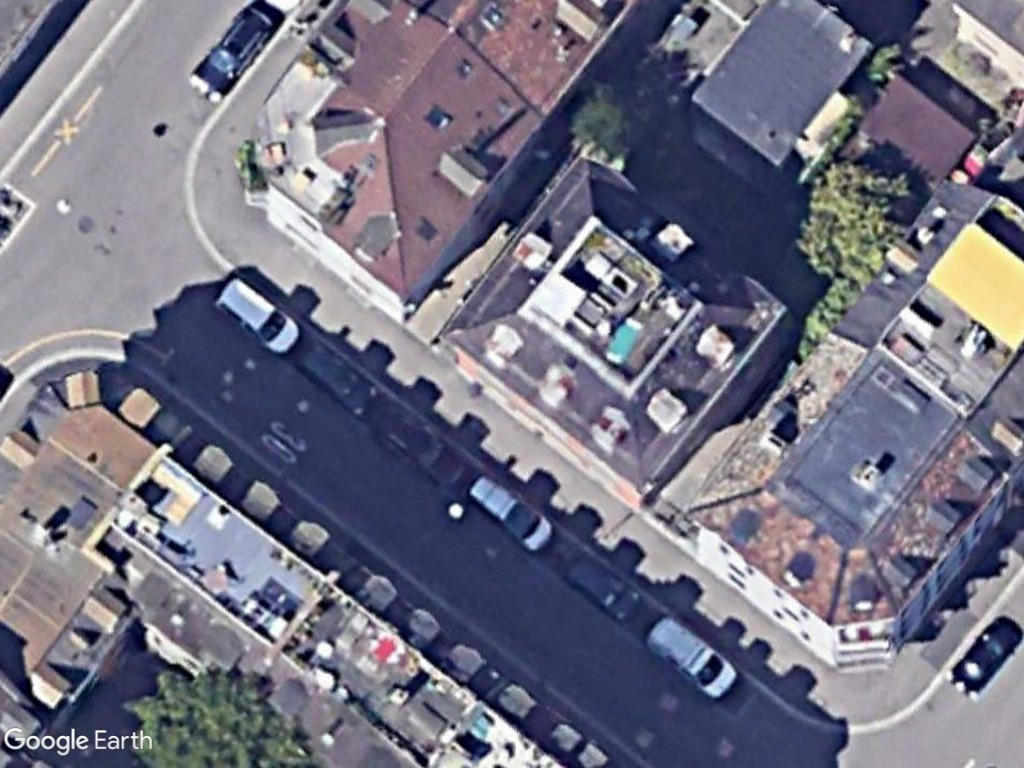car: (186, 4, 279, 108), (213, 275, 302, 359), (465, 474, 555, 557)
van: (644, 612, 736, 705)
